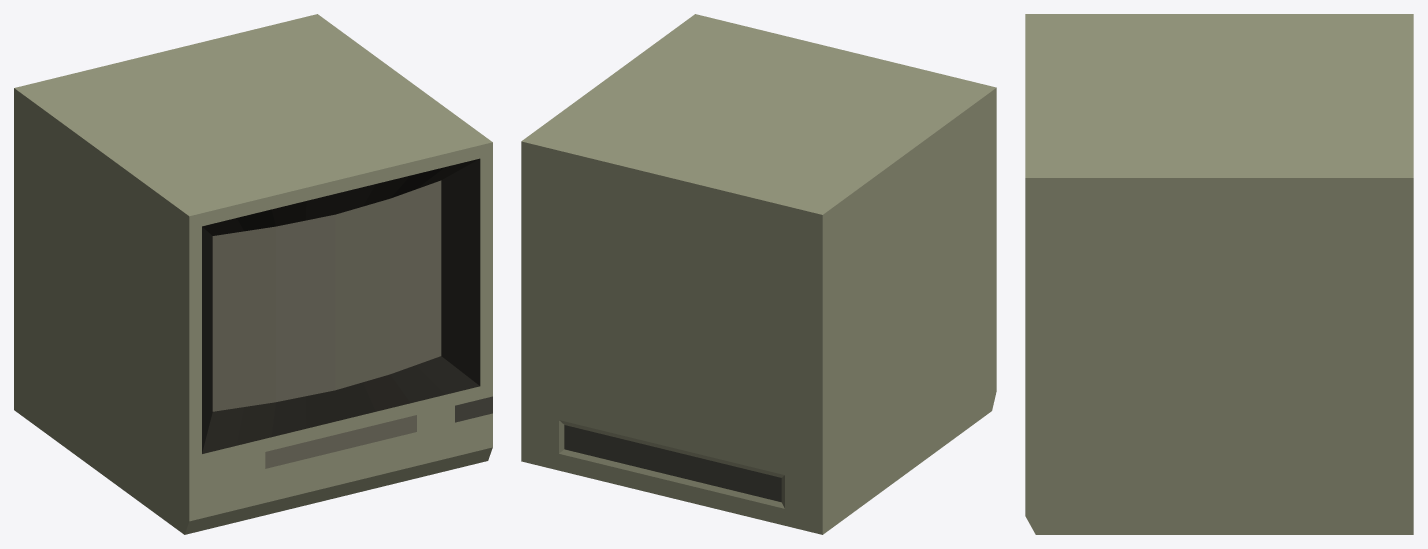
File: Screen.fbx
3 views of the same model, side by side, from view 1: azimuth 30°, elevation 25°; view 2: azimuth 150°, elevation 25°; view 3: azimuth 270°, elevation 25° (orthographic). The views are drawn at different scales.
Visible parts, largest first — view 1: Screen; view 2: Screen; view 3: Screen.
Boxes of the visible parts, box(x1,y1,x2,y2) form: Screen: box(14, 14, 492, 534); Screen: box(521, 14, 996, 534); Screen: box(1025, 14, 1413, 534).
Size of the model in its own units: 36.25 by 36.76 by 36.25.
